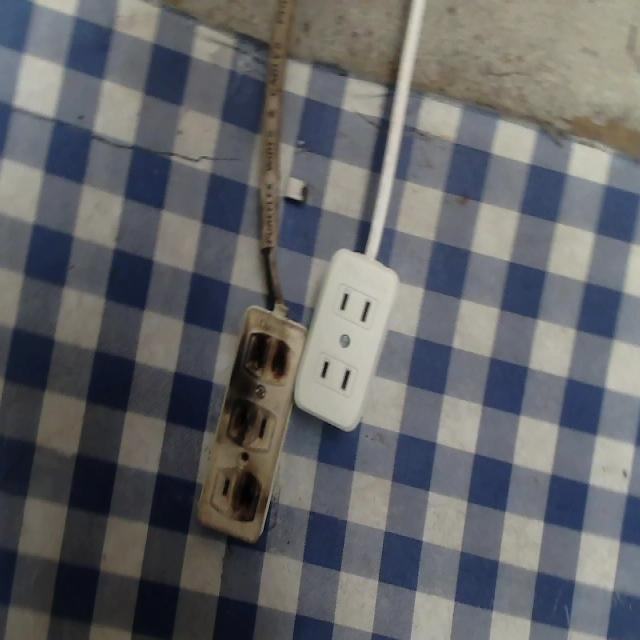-: (239, 324, 295, 391), (228, 468, 268, 527), (222, 399, 259, 445)
